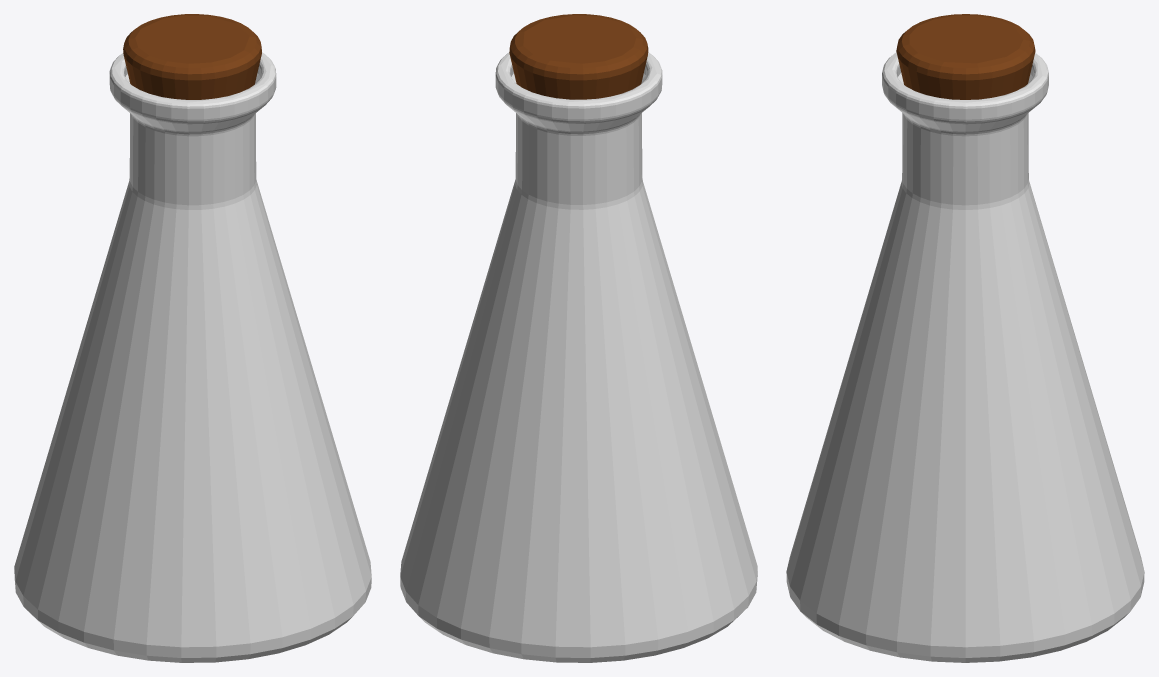
File: zamansise.fbx
The picture shows the model from 3 angles, left to right: view 1: azimuth 30°, elevation 25°; view 2: azimuth 150°, elevation 25°; view 3: azimuth 270°, elevation 25°; orthographic projection.
Visible parts, largest first — view 1: Circle; view 2: Circle; view 3: Circle.
Boxes of the visible parts, left/top/right/bottom form: Circle: left=14, top=14, right=371, bottom=662; Circle: left=400, top=14, right=757, bottom=662; Circle: left=786, top=14, right=1144, bottom=662.
Bounding box in the file's own units: 1.67 × 2.85 × 1.67.
